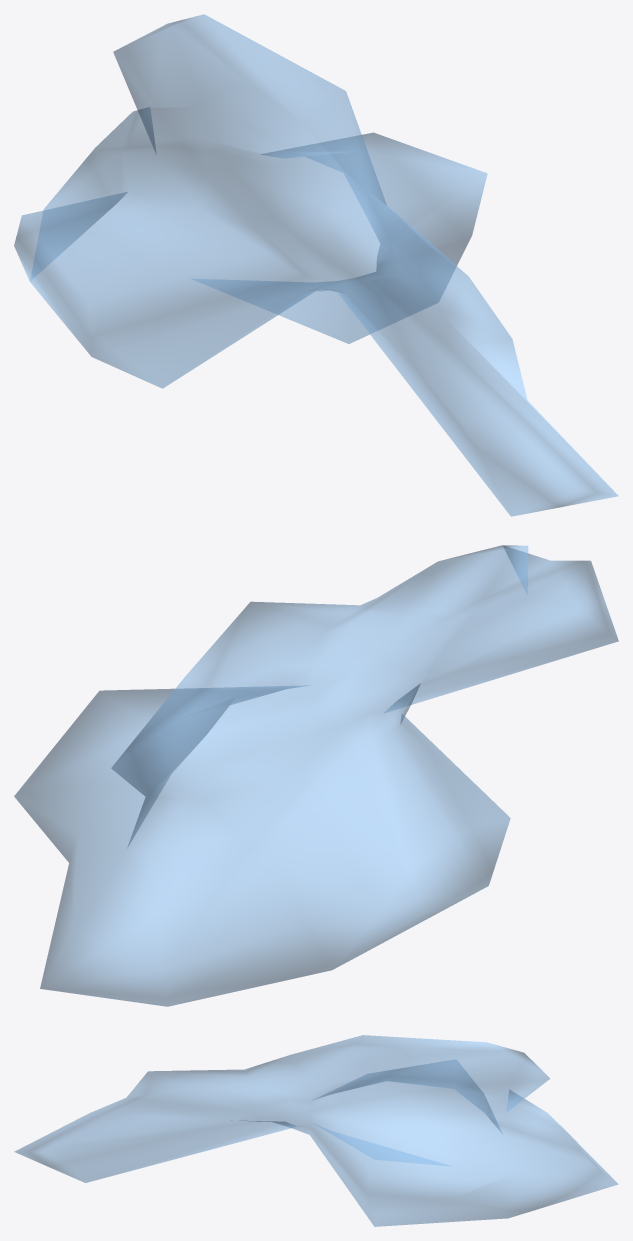
Rendered from mwarlord_shield.gltf.
3 views of the same model, one above another, from view 1: azimuth 30°, elevation 25°; view 2: azimuth 150°, elevation 25°; view 3: azimuth 270°, elevation 25° (orthographic). The views are drawn at different scales.
Visible parts, largest first — view 1: mwarlord.shield; view 2: mwarlord.shield; view 3: mwarlord.shield.
Part boxes in pixels (left/top/right/bottom): mwarlord.shield: left=14, top=14, right=618, bottom=516; mwarlord.shield: left=14, top=545, right=618, bottom=1006; mwarlord.shield: left=14, top=1035, right=618, bottom=1226.
Bounding box in the file's own units: 5.2 × 3.42 × 11.68.
